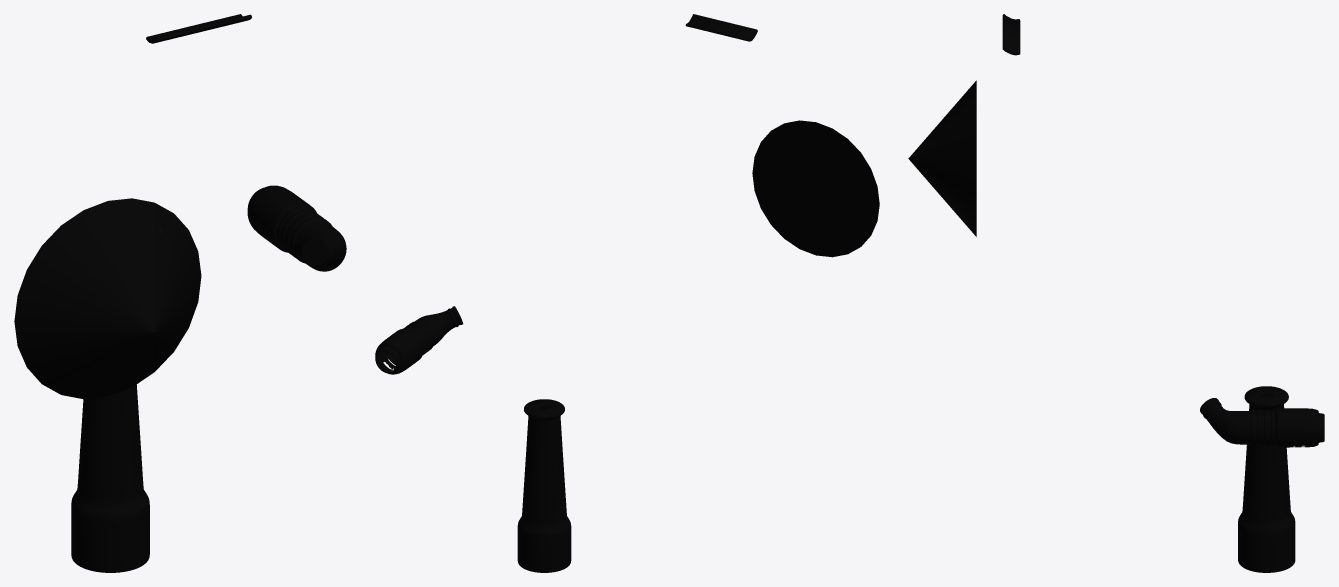
File: coffee_machine_left_group_main_model_7.obj
3 views of the same model, side by side, from view 1: azimuth 30°, elevation 25°; view 2: azimuth 150°, elevation 25°; view 3: azimuth 270°, elevation 25° (orthographic). The views are drawn at different scales.
Bounding box in the file's own units: 0.6067 × 0.776 × 0.5858.
Materials: 1 (1 with a texture image).
